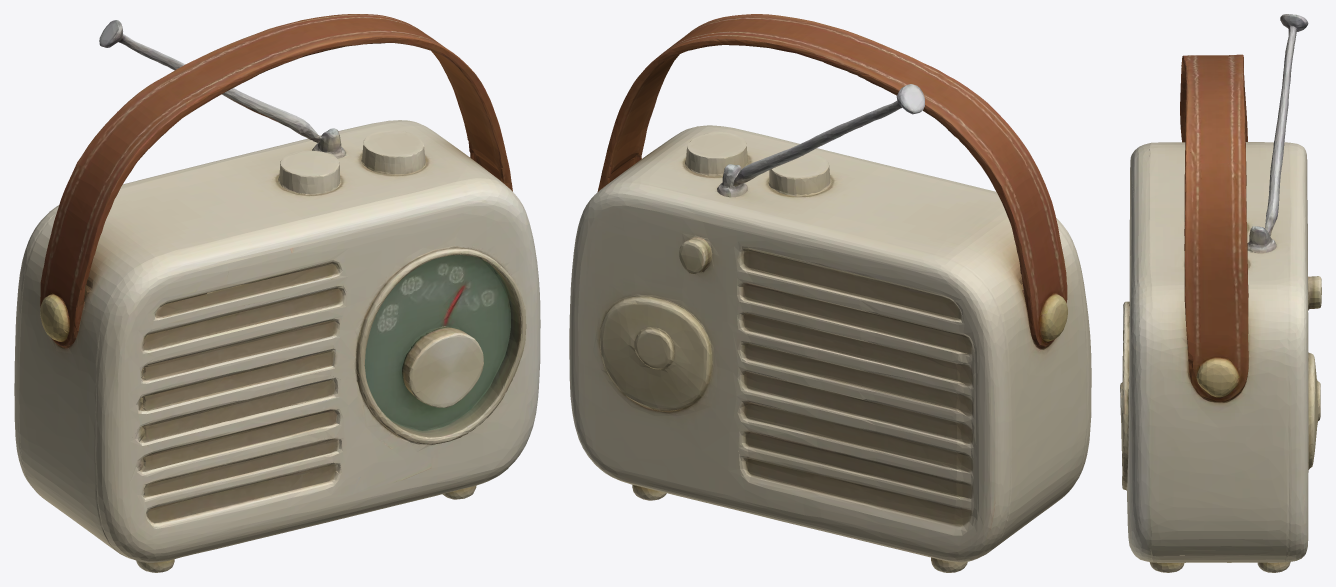
The model's file is radio.glb.
3 views of the same model, side by side, from view 1: azimuth 30°, elevation 25°; view 2: azimuth 150°, elevation 25°; view 3: azimuth 270°, elevation 25° (orthographic). The views are drawn at different scales.
Parts seen in each view (by area): view 1: geometry_0; view 2: geometry_0; view 3: geometry_0.
Boxes of the visible parts, x1,y1,x2,y2 form: geometry_0: [14, 14, 540, 572]; geometry_0: [569, 14, 1091, 572]; geometry_0: [1120, 14, 1321, 572].
Bounding box in the file's own units: 0.9974 × 1 × 0.4193.
1 material, 1 textured.
